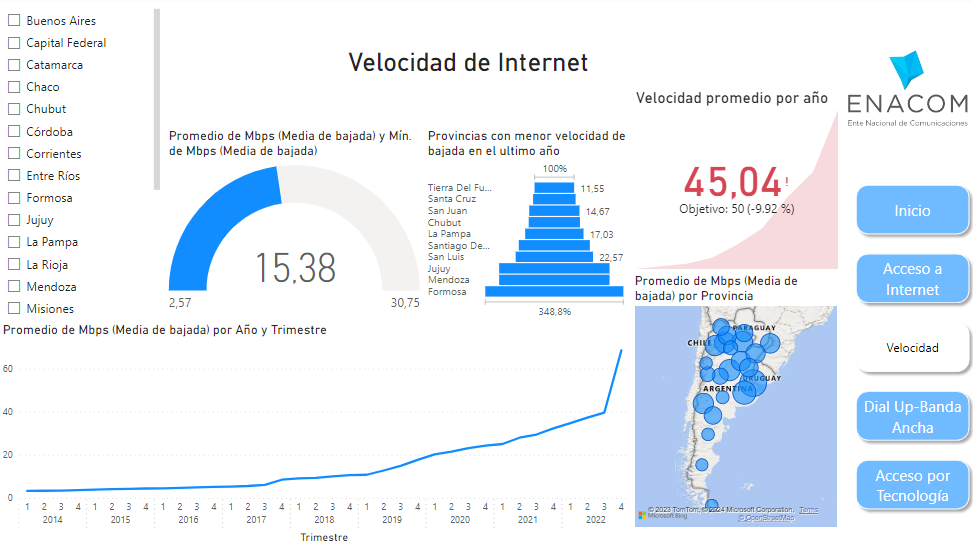

Layout of this report page (visuals, bound fields, positions):
{"tool":"powerbi","page":{"name":"Velocidad","canvas":[1280,720],"ordinal":2},"visuals":[{"type":"pageNavigator","box":[1115.6,238.2,164.4,441.2],"z":0},{"type":"image","box":[1104,49.5,176,140.2],"z":1000},{"type":"textbox","box":[452.9,60.4,375.8,58.7],"z":2000},{"type":"gauge","fields":{"Y":["Avg(Velocidad % por prov.Mbps (Media de bajada))1"],"MinValue":["Min(Velocidad % por prov.Mbps (Media de bajada))"]},"box":[218.6,171.4,338.6,254.3],"z":3000},{"type":"lineChart","fields":{"Category":["Velocidad % por prov.Año","Velocidad % por prov.Trimestre"],"Y":["Avg(Velocidad % por prov.Mbps (Media de bajada))"]},"box":[1.4,425.7,828.6,294.3],"z":4000},{"type":"map","fields":{"Category":["Velocidad % por prov.Provincia"],"Size":["Avg(Velocidad % por prov.Mbps (Media de bajada))"]},"box":[828.7,360.7,275.1,337.2],"z":5000},{"type":"slicer","fields":{"Values":["Velocidad % por prov.Provincia"]},"box":[0,10.1,217.4,416.2],"z":6000},{"type":"kpi","title":"Velocidad promedio por año","fields":{"Indicator":["Avg(Velocidad % por prov.Mbps (Media de bajada))"],"Goal":["Velocidad % por prov.Objetivo"],"TrendLine":["Velocidad % por prov.Año"]},"box":[829.4,119.5,275,241.9],"z":7000},{"type":"funnel","title":"Provincias con menor velocidad de bajada en el ultimo año","fields":{"Y":["Avg(Velocidad % por prov.Mbps (Media de bajada))"],"Category":["Velocidad % por prov.Provincia","Velocidad % por prov.Año"]},"box":[558,171,271,254],"z":8000}]}

Visuals, with their boxes in screenshot pixels (x1, y1, x2, y2), scaled from the page's 1280x720 canvas onto the 973x545 screenshot:
pageNavigator: [848, 180, 972, 514]
image: [839, 37, 972, 144]
textbox: [344, 46, 630, 90]
gauge - Avg(Velocidad % por prov.Mbps (Media de bajada))1 x Min(Velocidad % por prov.Mbps (Media de bajada)): [166, 130, 424, 322]
lineChart - Velocidad % por prov.Año x Velocidad % por prov.Trimestre: [1, 322, 631, 544]
map - Velocidad % por prov.Provincia x Avg(Velocidad % por prov.Mbps (Media de bajada)): [630, 273, 839, 528]
slicer - Velocidad % por prov.Provincia: [0, 8, 165, 323]
"Velocidad promedio por año" kpi: [630, 90, 840, 274]
"Provincias con menor velocidad de bajada en el ultimo año" funnel: [424, 129, 630, 322]
